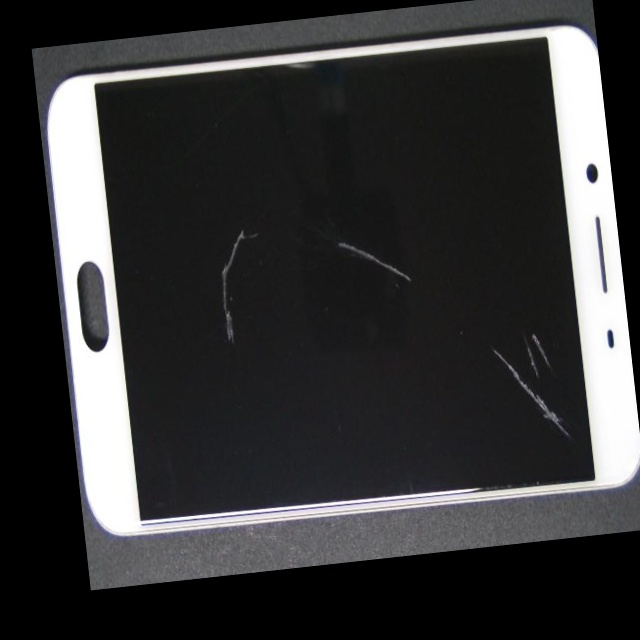scratch: (264, 133, 640, 562), (289, 171, 640, 539), (273, 152, 583, 386), (132, 45, 314, 369)
